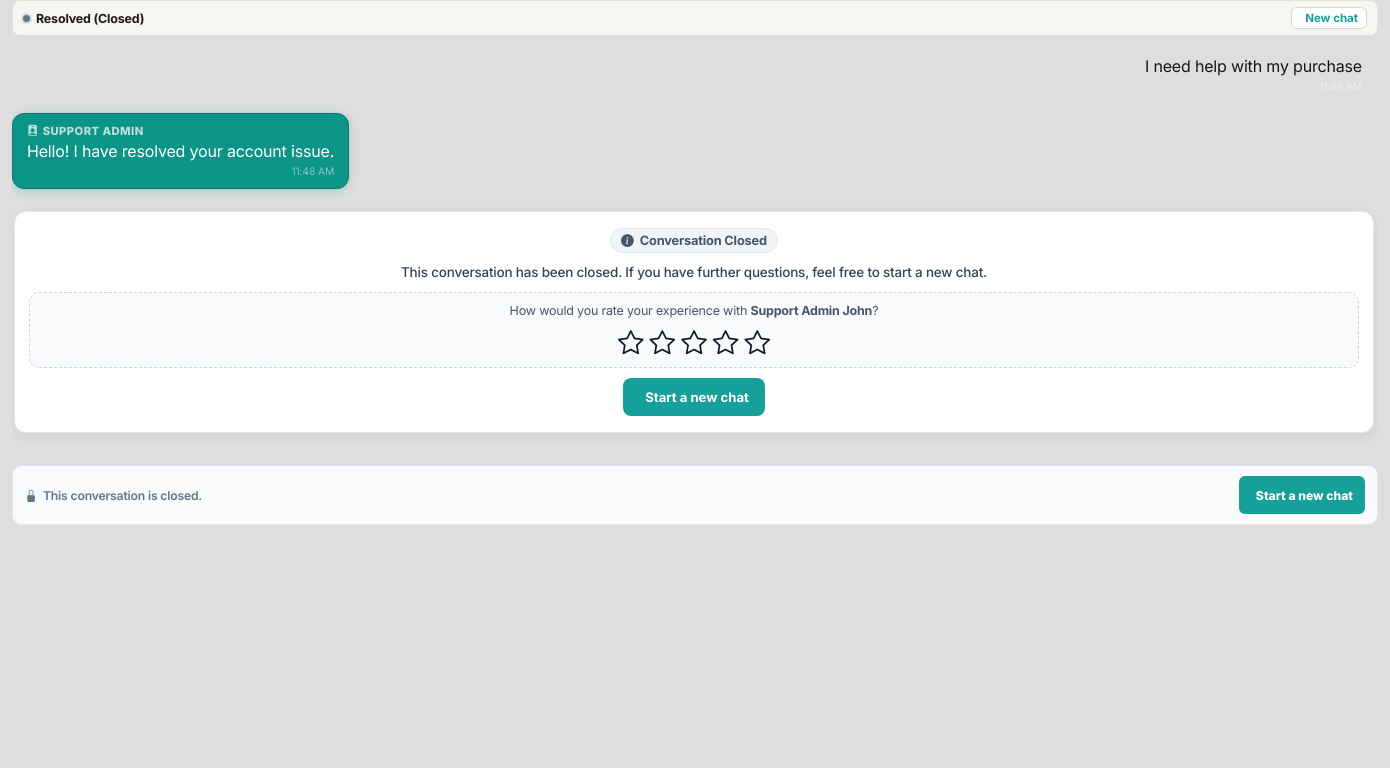
Test: HelpChatWidget › displays dialogue and white banner when conversation is closed, and allows starting new chat
The width and height of the screenshot is (1390, 768).
expect the text "I need help with my purchase" is shown: met, box [1145, 56, 1362, 76]
expect the text "Hello! I have resolved your account issue." is shown: met, box [27, 141, 334, 161]
Note: Click start a new chat
Click the button "Start a new chat" below "How would you rate your experience with": click(694, 398) [623, 378, 765, 416]
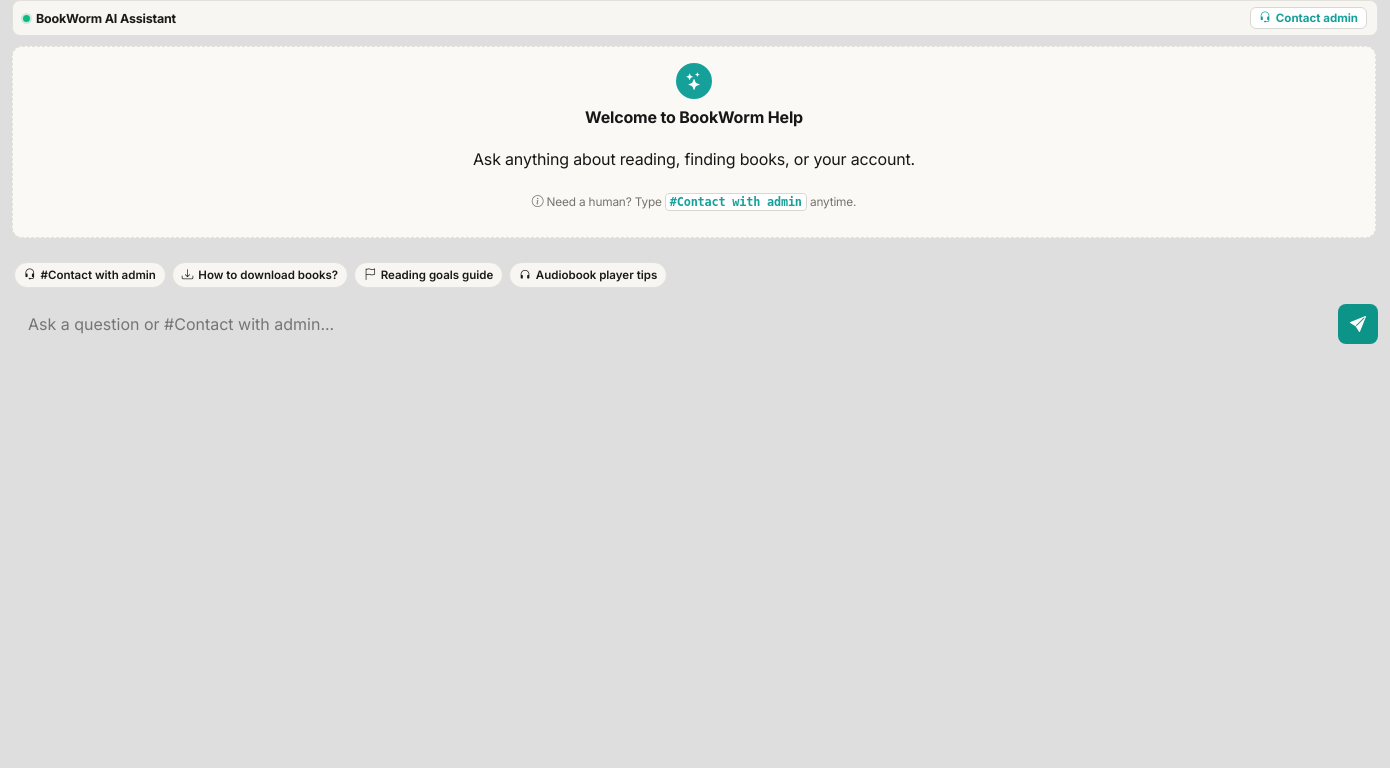
expect the text "Welcome to BookWorm Help" is shown: met, box [585, 107, 803, 127]
